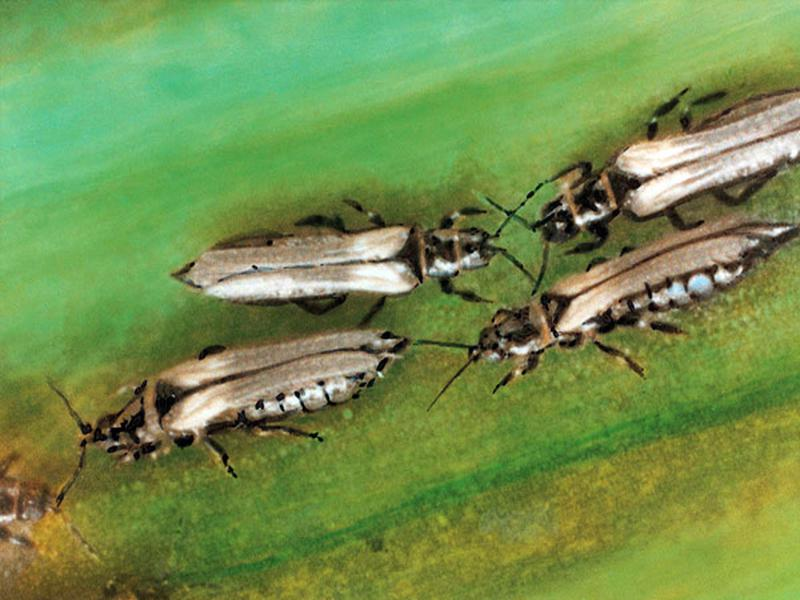Thrips: (541, 77, 794, 224), (133, 208, 482, 312), (97, 335, 402, 442)
